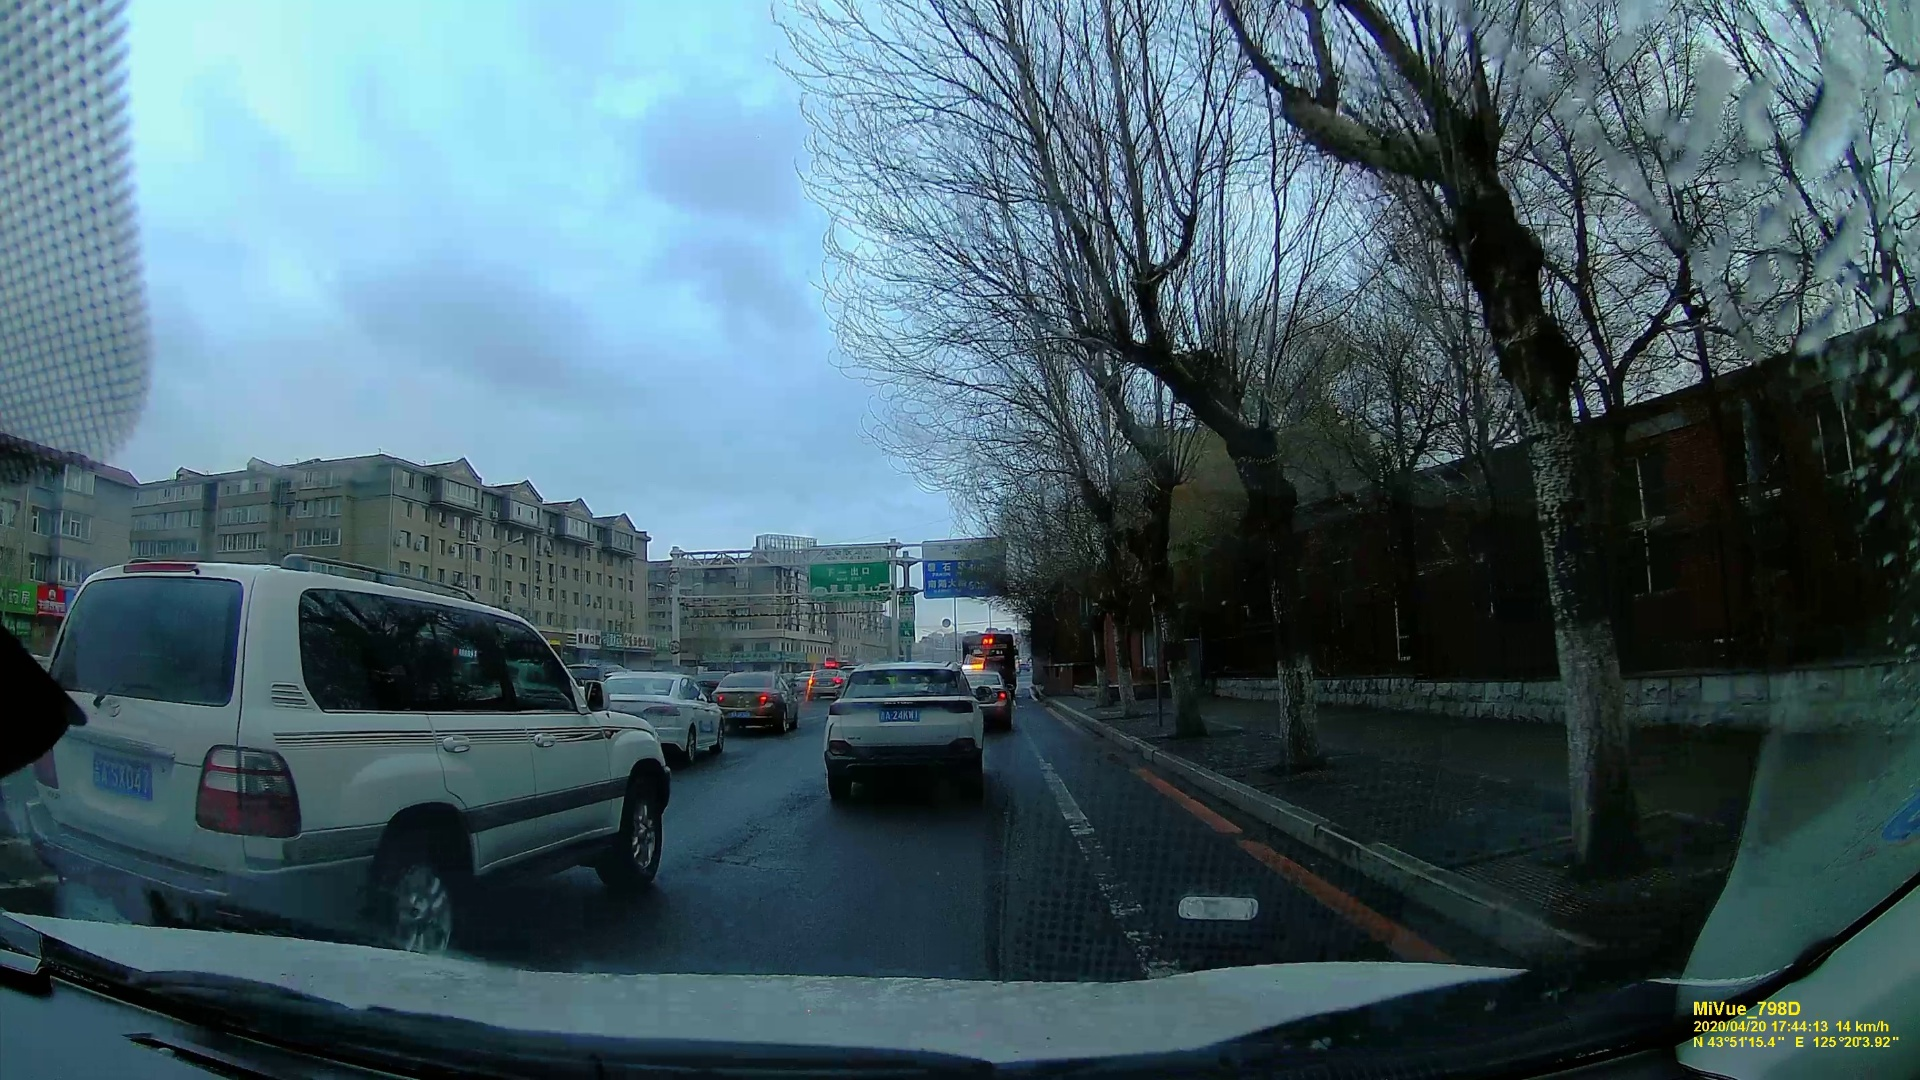bus: (963, 634, 1014, 688)
traffic_sign: (920, 541, 1006, 597), (807, 545, 889, 597)
vehicle: (38, 562, 678, 926), (819, 657, 990, 793), (601, 670, 723, 761), (713, 674, 802, 735)
